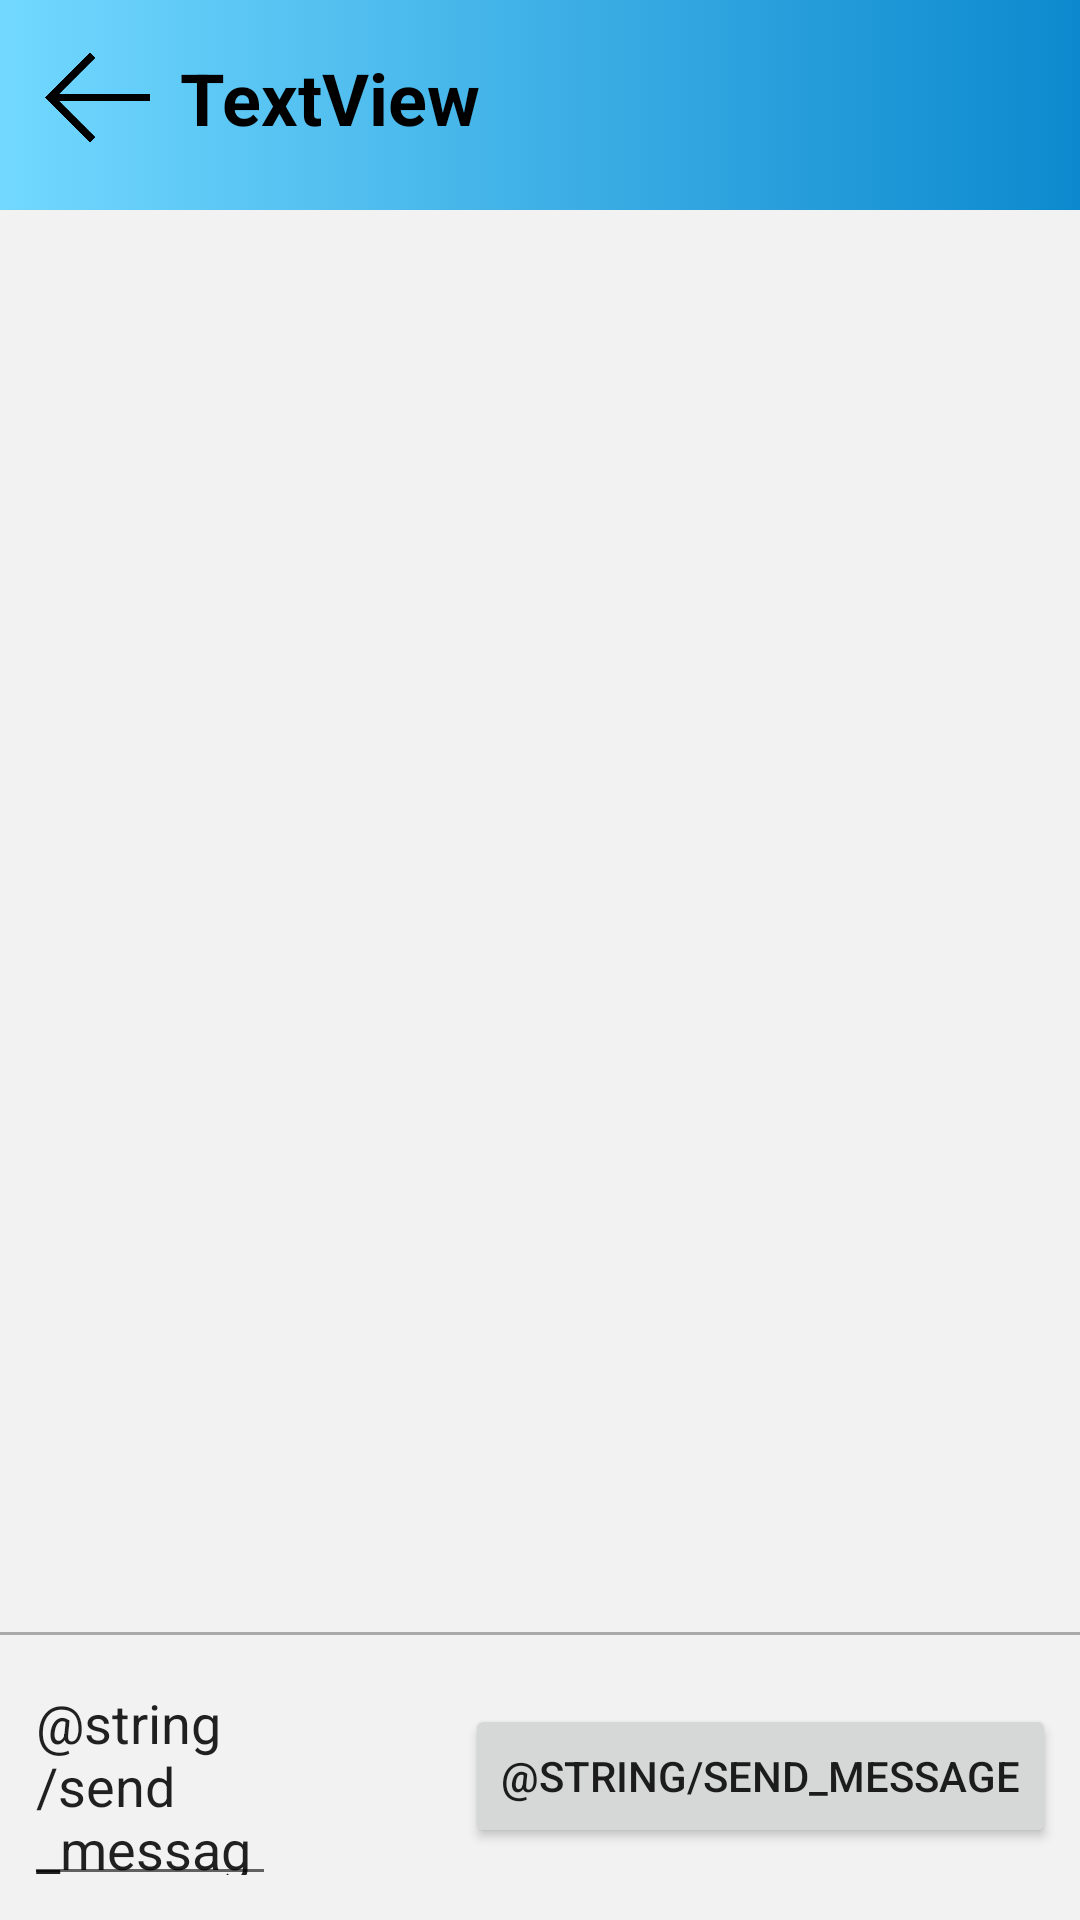

Where to tap for icons on this 1080px×1920px app screen, as (x=x, y=y):
leftarrow: (x=97, y=97)
